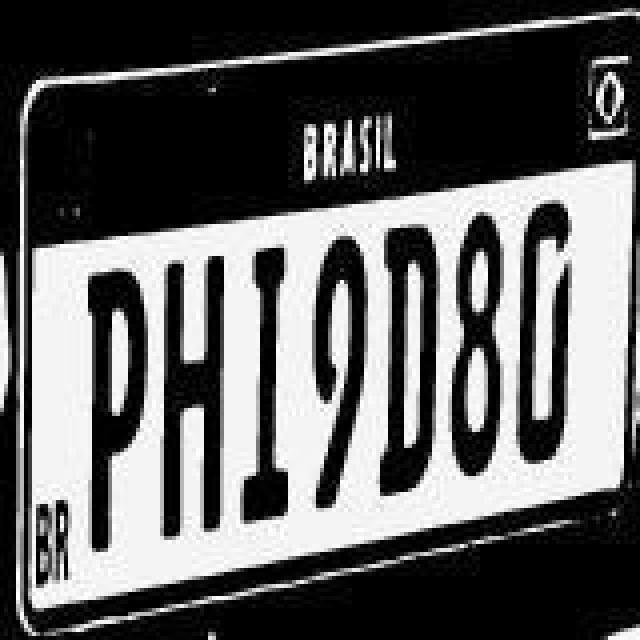8: (446, 206, 514, 498)
9: (302, 232, 378, 520)
D: (370, 218, 446, 502), (512, 198, 576, 482)
H: (152, 242, 232, 550)
I: (234, 238, 302, 538)
P: (84, 256, 156, 560)
